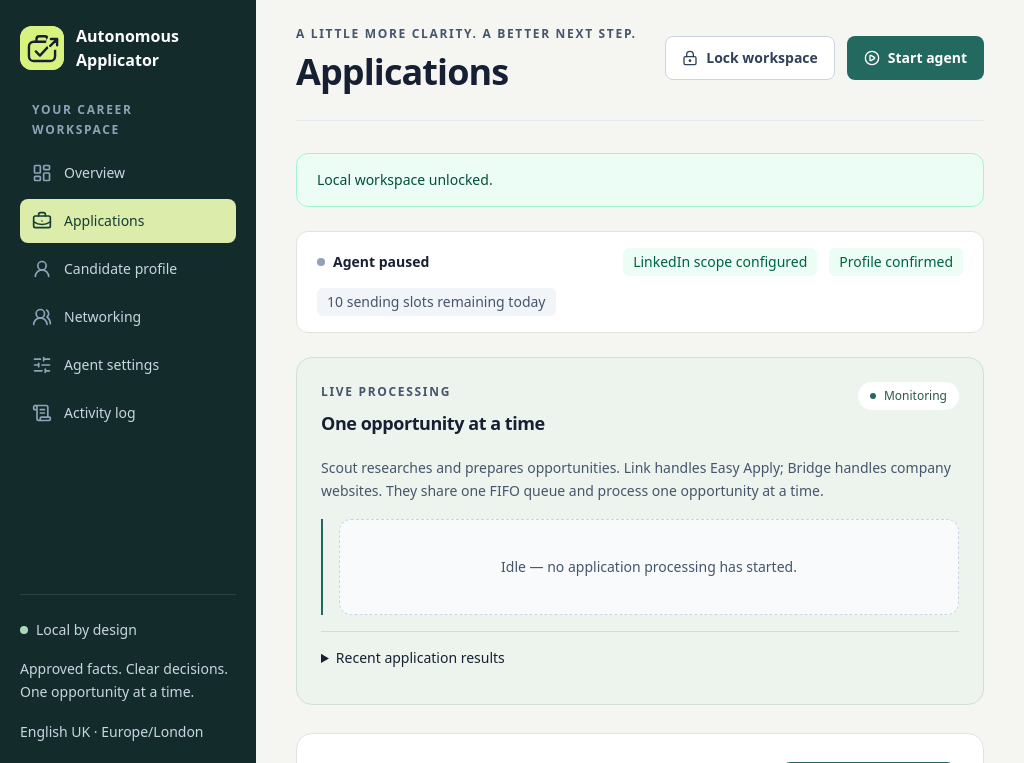
Test: opens corrective profile editing from a review and rechecks that opportunity after saving
Click the button "Applications".
click(128, 221)  # box [20, 199, 236, 243]
(page scrolled)
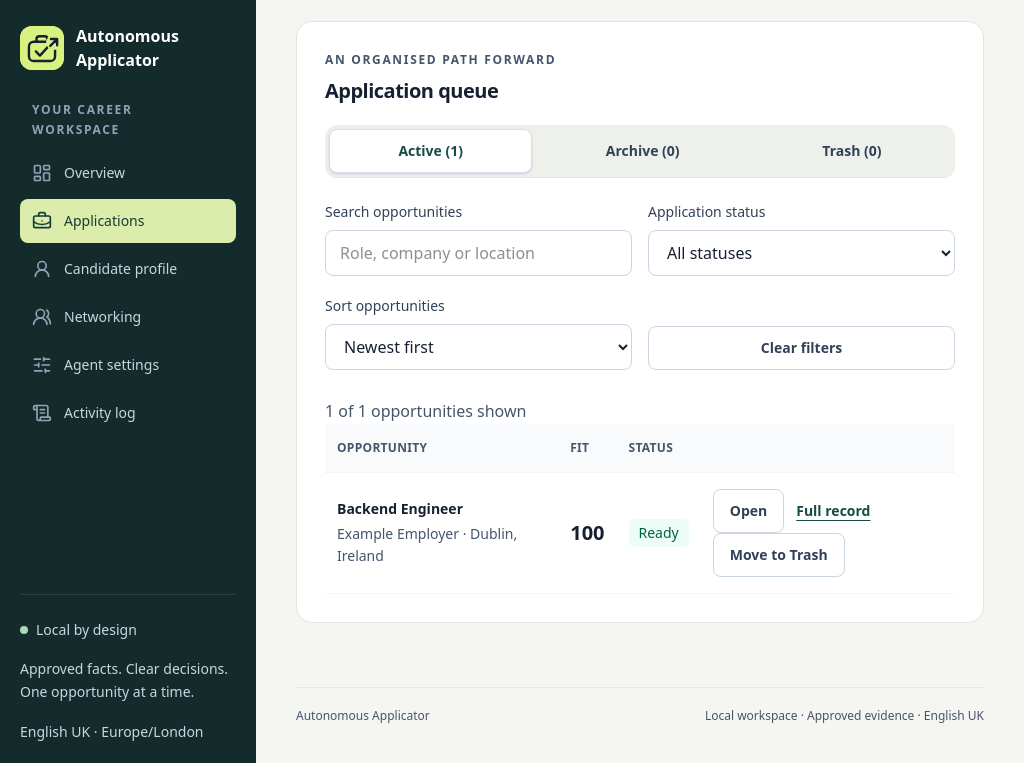
Click the button with aria-label "Open Backend Engineer at Example Employer".
click(748, 511)  # box [713, 489, 784, 533]
(page scrolled)
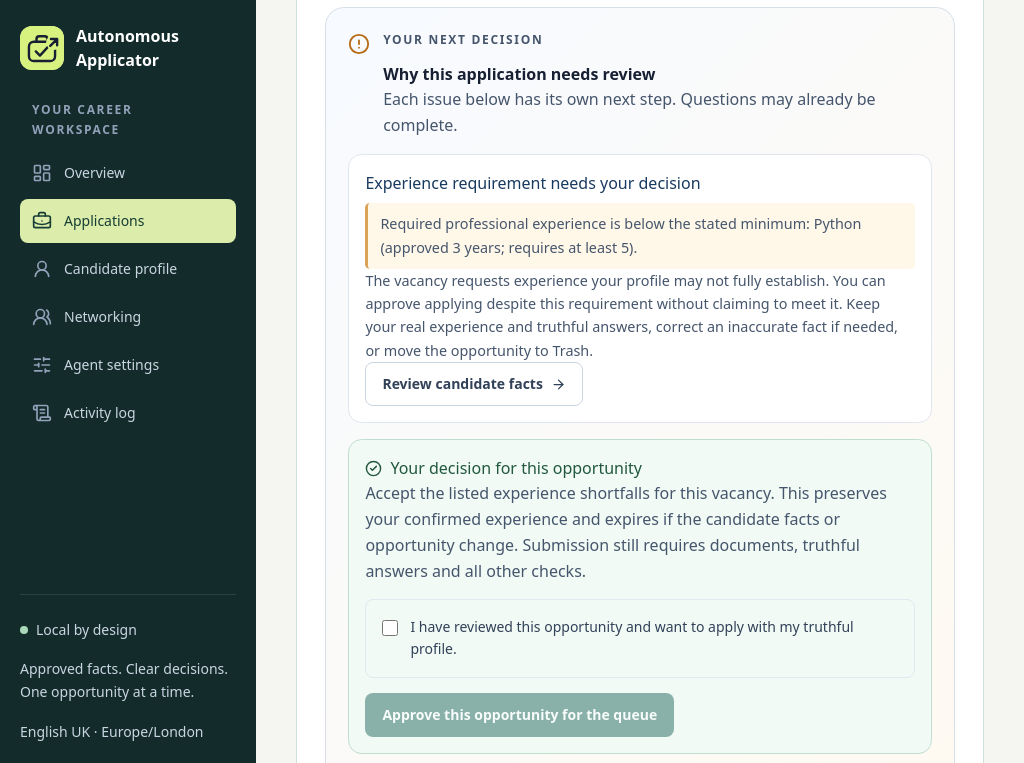
Expected: the heading "Why this application needs review" is shown, [383, 63, 655, 85]
Click the button "Review candidate facts".
click(474, 384)  # box [365, 362, 583, 406]
(page scrolled)
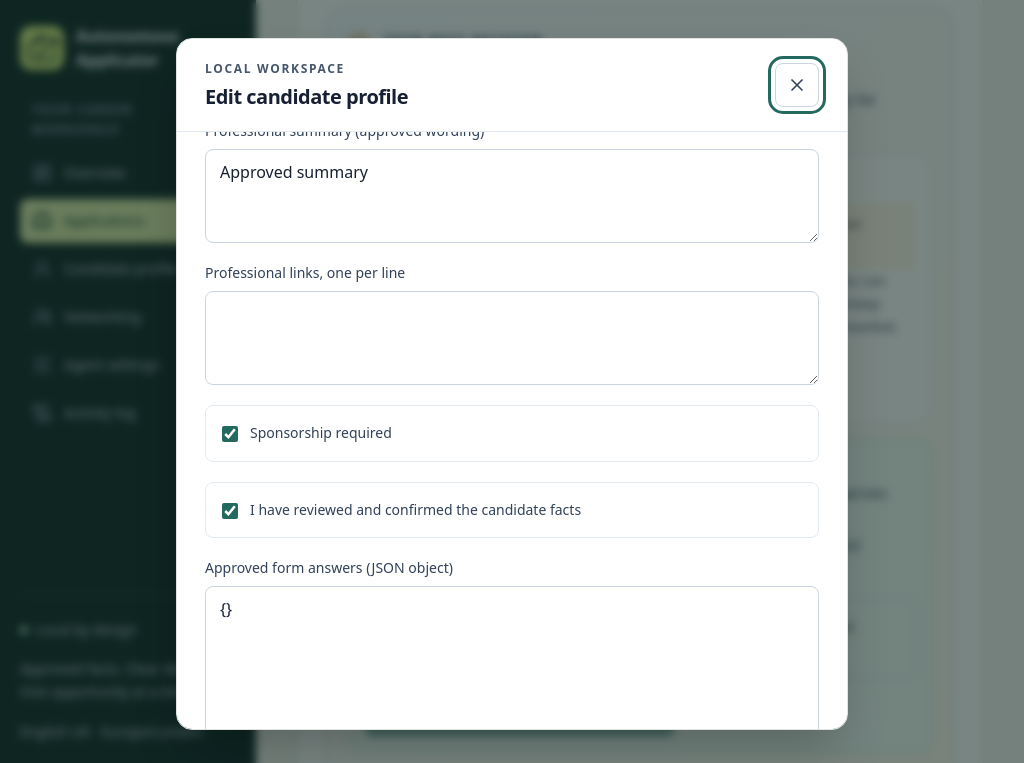
Submit the form named "Save candidate profile"
(page scrolled)
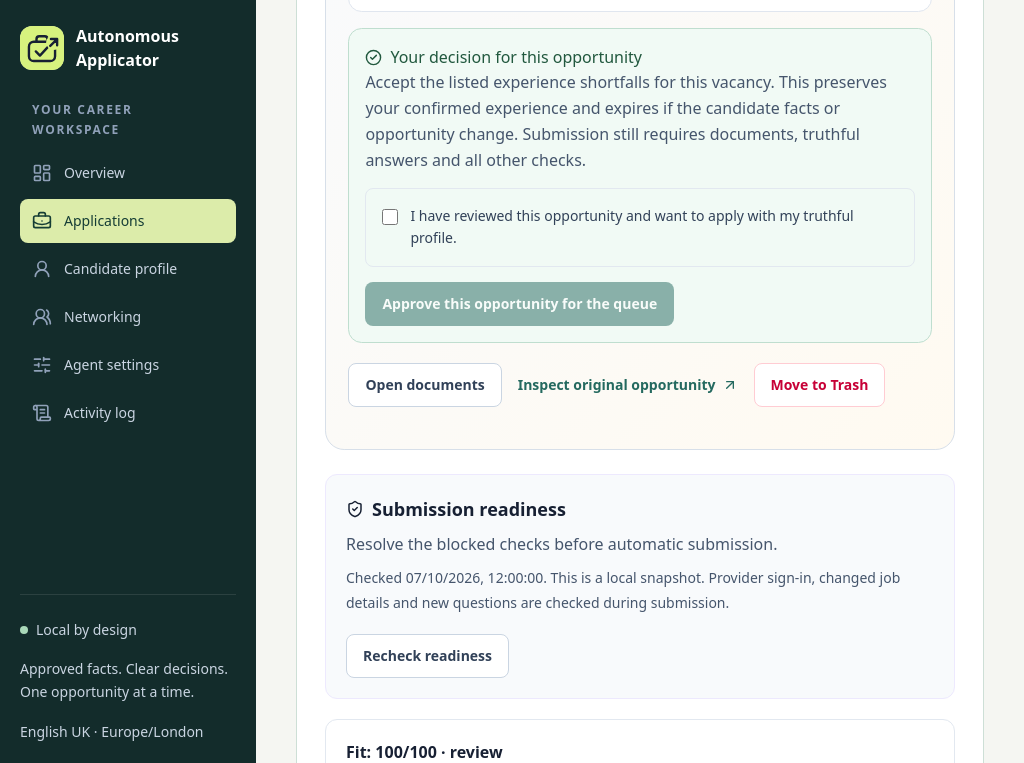
Expected: the dialog is gone
Click the button "Move to Trash".
click(820, 384)  # box [754, 362, 886, 406]
(page scrolled)
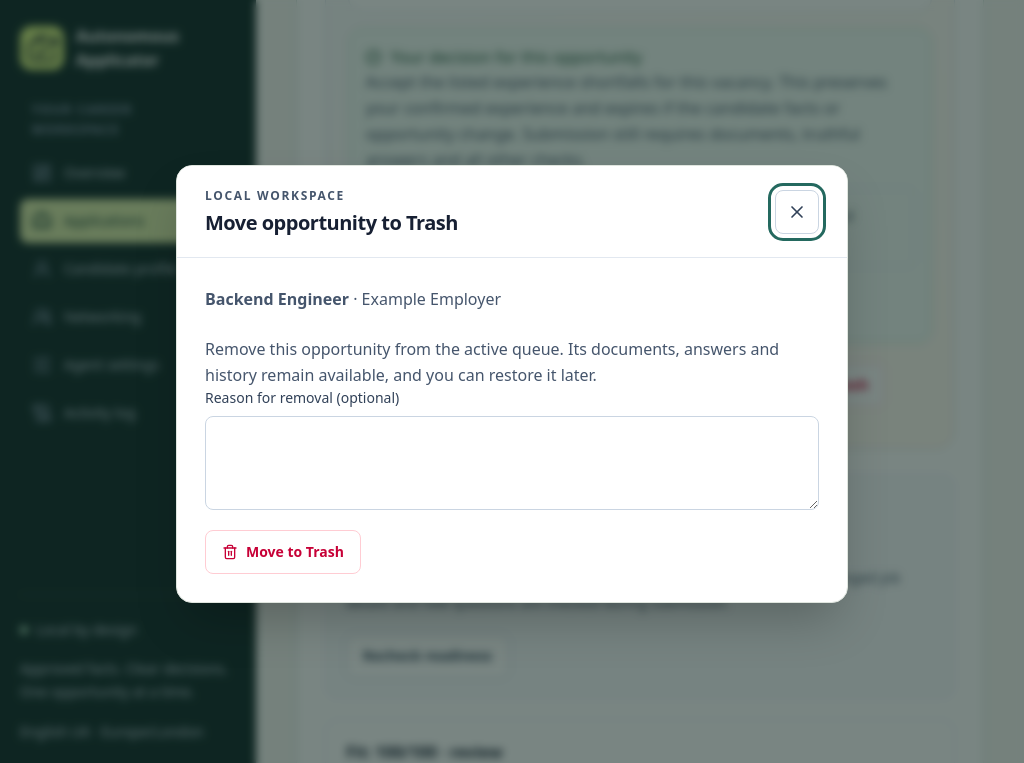
Expected: the dialog "Move opportunity to Trash" is shown, [176, 165, 848, 603]
